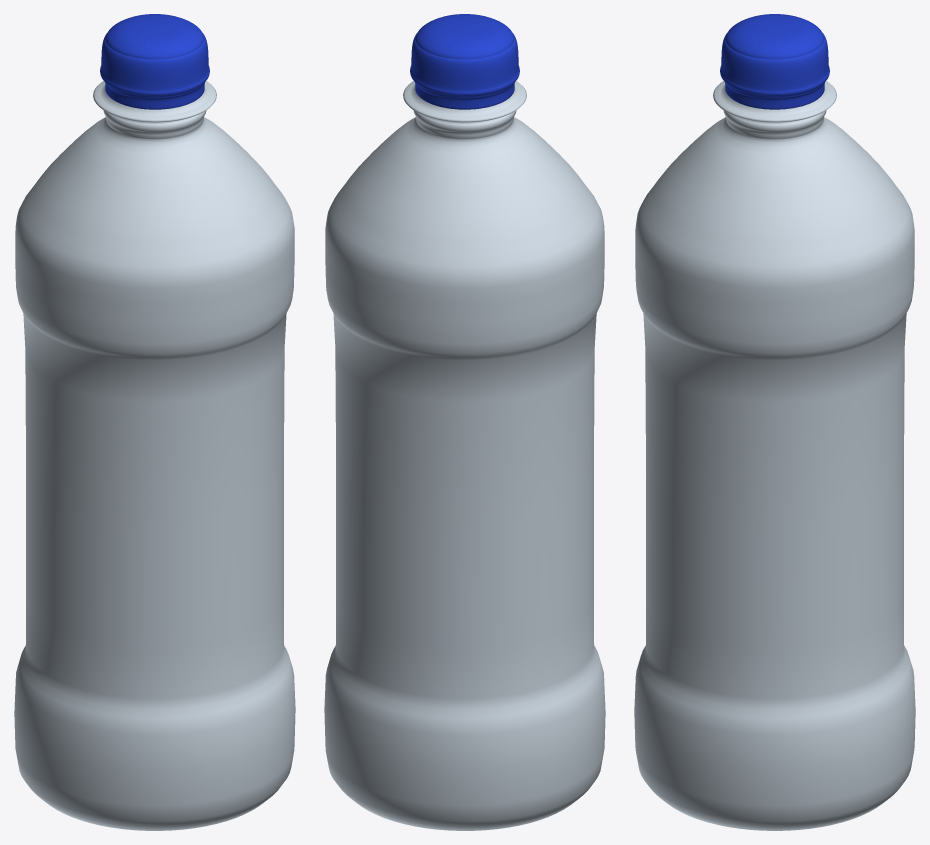
Rendered from ortprdnmxcxfr.fbx.
3 renders of one model, left to right at view 1: azimuth 30°, elevation 25°; view 2: azimuth 150°, elevation 25°; view 3: azimuth 270°, elevation 25°, orthographic.
Visible parts, largest first — view 1: Cylinder.003, Cylinder.002; view 2: Cylinder.003, Cylinder.002; view 3: Cylinder.003, Cylinder.002.
Boxes of the visible parts, bbox=[...] form: Cylinder.003: bbox=[14, 80, 295, 830]; Cylinder.002: bbox=[100, 14, 209, 109]; Cylinder.003: bbox=[324, 80, 605, 830]; Cylinder.002: bbox=[410, 14, 519, 109]; Cylinder.003: bbox=[634, 81, 915, 830]; Cylinder.002: bbox=[720, 14, 829, 109].
Bounding box in the file's own units: 214 × 635 × 214.
